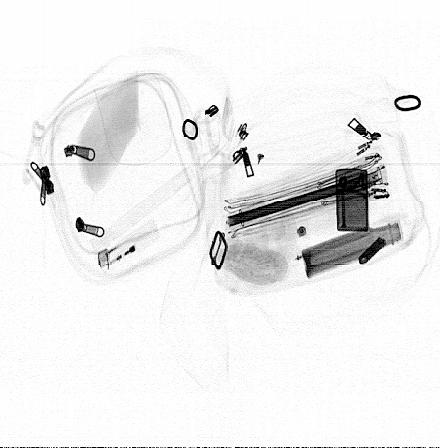Lighter: (335, 168, 369, 232)
